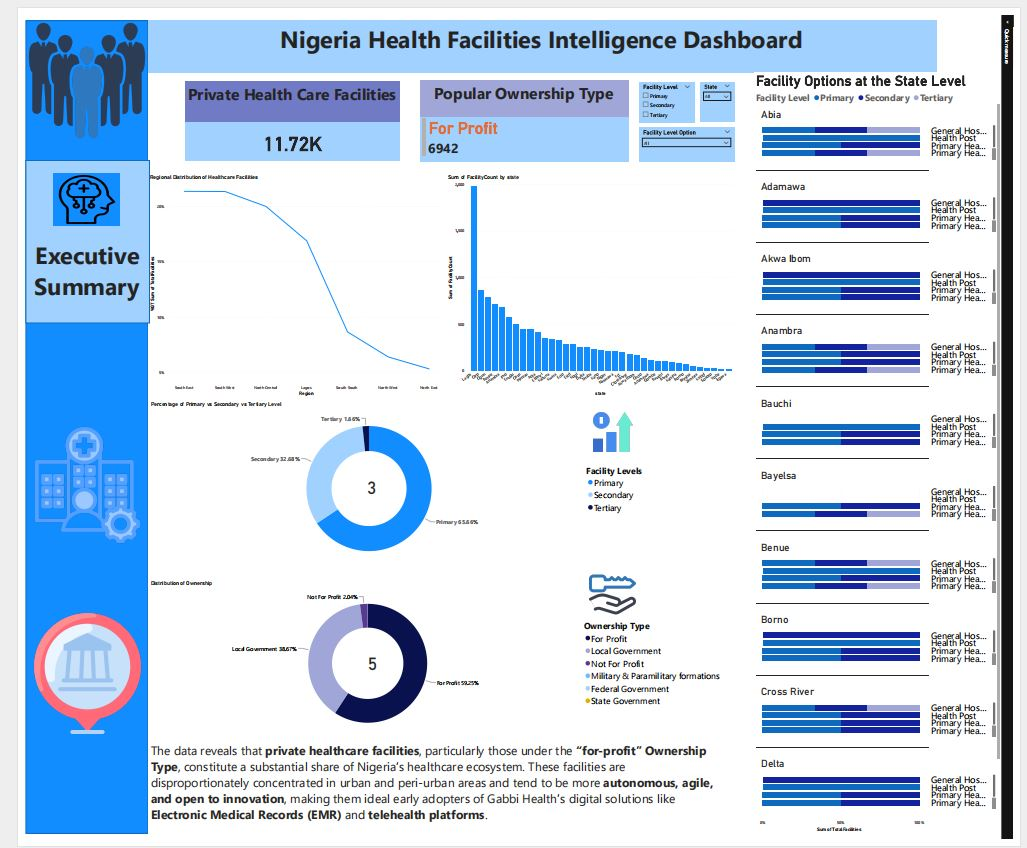

What the dashboard file says about the page in this screenshot:
{"tool":"powerbi","page":{"name":"Page 1","canvas":[3000,2500],"ordinal":0},"visuals":[{"type":"textbox","box":[372.2,0,2427.8,161.1],"z":0},{"type":"card","title":"Total Primary Health Facilities","fields":{"Values":["CountNonNull(GRID3_NGA_health_facilities_v2_.facility_name)"]},"box":[490,310,660,122],"z":1000},{"type":"donutChart","title":"Percentage of Primary vs Secondary vs Tertiary Level","fields":{"Category":["FacilityLevelSummary.facility_level"],"Y":["Sum(FacilityLevelSummary.Percentage)"]},"box":[380,1170,1540,520],"z":2000},{"type":"card","fields":{"Values":["Count(FacilityLevelSummary.FacilityCount)"]},"box":[1010,1385,110,90],"z":3000},{"type":"donutChart","title":"Distribution of Ownership","fields":{"Category":["OwnershipTypeSummary.ownership_type"],"Y":["Sum(OwnershipTypeSummary.FacilityCount)"]},"box":[380,1720,1770,495],"z":4000},{"type":"card","fields":{"Values":["Count(OwnershipTypeSummary.FacilityCount)"]},"box":[1010,1920,110,100],"z":5000},{"type":"clusteredColumnChart","fields":{"Category":["FacilityLevelsByState.state"],"Y":["Sum(FacilityLevelsByState.FacilityCount)"]},"box":[1295,470,887.5,690],"z":6000},{"type":"lineChart","title":"Regional Distribution of Healthcare Facilities","fields":{"Category":["TotalFacilitiesByRegion.Region"],"Y":["Sum(TotalFacilitiesByRegion.TotalFacilities)"]},"box":[377.5,470,917.5,690],"z":7000},{"type":"hundredPercentStackedBarChart","title":"Facility Options at the State Level","fields":{"Category":["Nigerian Healthcare Facilities.facility_level_option"],"Series":["Nigerian Healthcare Facilities.facility_level"],"Y":["Sum(TotalFacilitiesByRegion.TotalFacilities)"],"Rows":["Nigerian Healthcare Facilities.state"]},"box":[2240,160,760,2340],"z":8000},{"type":"shape","box":[0,0,375,2500],"z":9000},{"type":"image","box":[0,0,375,367.9],"z":10000},{"type":"shape","box":[0,430,380,500],"z":11000},{"type":"textbox","box":[0,665,380,235],"z":12000},{"type":"image","box":[0,1800,377.8,416.7],"z":13000},{"type":"image","box":[1720,1690,165,150],"z":14000},{"type":"image","box":[1690,1200,230,130],"z":15000},{"type":"image","box":[0,1166.7,377.8,522.2],"z":16000},{"type":"textbox","box":[490,186,660,126],"z":17000},{"type":"textbox","box":[1214,184,638,112],"z":18000},{"type":"image","box":[85,470,205,160],"z":19000},{"type":"multiRowCard","fields":{"Values":["OwnershipTypeSummary.ownership_type","Sum(OwnershipTypeSummary.FacilityCount)"]},"box":[1214,296,638,136],"z":20000},{"type":"slicer","fields":{"Values":["Nigerian Healthcare Facilities.facility_level"]},"box":[1885,187.5,170,125],"z":21000},{"type":"slicer","fields":{"Values":["Nigerian Healthcare Facilities.facility_level_option"]},"box":[1885,327.5,292.5,105],"z":22000},{"type":"textbox","box":[380,2215,1770,285],"z":23000},{"type":"slicer","fields":{"Values":["Nigerian Healthcare Facilities.state"]},"box":[2072.5,187.5,105,122.5],"z":24000}]}

Visuals, with their boxes on the page's 3000x2500 design canvas (x1, y1, x2, y2). These are canvas units, not pixel positions in the 1027x848 screenshot, which may show the page scaled, cropped or inside an application window:
textbox: locate(372, 0, 2800, 161)
"Total Primary Health Facilities" card: locate(490, 310, 1150, 432)
"Percentage of Primary vs Secondary vs Tertiary Level" donutChart: locate(380, 1170, 1920, 1690)
card - Count(FacilityLevelSummary.FacilityCount): locate(1010, 1385, 1120, 1475)
"Distribution of Ownership" donutChart: locate(380, 1720, 2150, 2215)
card - Count(OwnershipTypeSummary.FacilityCount): locate(1010, 1920, 1120, 2020)
clusteredColumnChart - FacilityLevelsByState.state x Sum(FacilityLevelsByState.FacilityCount): locate(1295, 470, 2182, 1160)
"Regional Distribution of Healthcare Facilities" lineChart: locate(378, 470, 1295, 1160)
"Facility Options at the State Level" hundredPercentStackedBarChart: locate(2240, 160, 3000, 2500)
shape: locate(0, 0, 375, 2500)
image: locate(0, 0, 375, 368)
shape: locate(0, 430, 380, 930)
textbox: locate(0, 665, 380, 900)
image: locate(0, 1800, 378, 2217)
image: locate(1720, 1690, 1885, 1840)
image: locate(1690, 1200, 1920, 1330)
image: locate(0, 1167, 378, 1689)
textbox: locate(490, 186, 1150, 312)
textbox: locate(1214, 184, 1852, 296)
image: locate(85, 470, 290, 630)
multiRowCard - OwnershipTypeSummary.ownership_type x Sum(OwnershipTypeSummary.FacilityCount): locate(1214, 296, 1852, 432)
slicer - Nigerian Healthcare Facilities.facility_level: locate(1885, 188, 2055, 312)
slicer - Nigerian Healthcare Facilities.facility_level_option: locate(1885, 328, 2178, 432)
textbox: locate(380, 2215, 2150, 2500)
slicer - Nigerian Healthcare Facilities.state: locate(2072, 188, 2178, 310)
